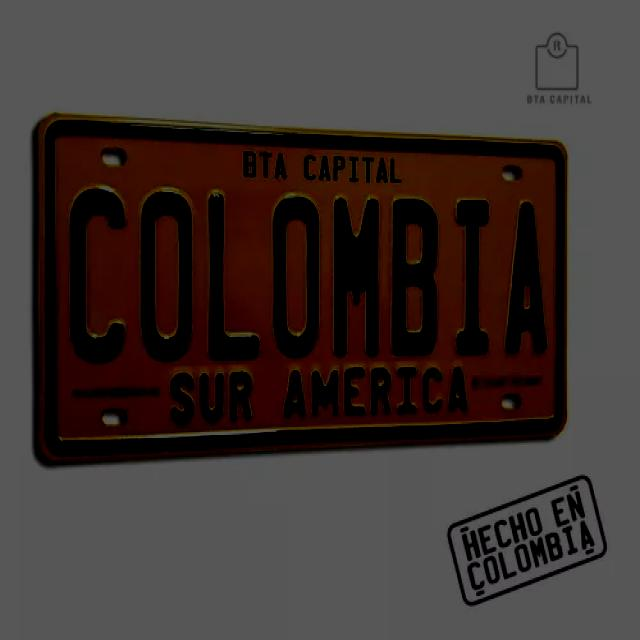placa: (44, 119, 558, 461)
